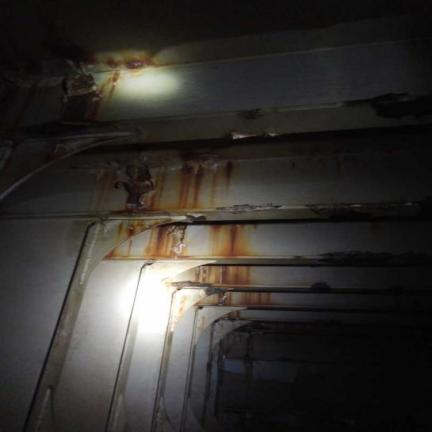besi_tidak_karat: (94, 40, 431, 121), (0, 221, 86, 431), (108, 261, 207, 431), (48, 261, 141, 431), (157, 304, 240, 431)
karat: (142, 133, 431, 215), (105, 223, 431, 266), (173, 264, 431, 293), (195, 289, 431, 319), (78, 218, 174, 278), (307, 199, 431, 220), (35, 168, 90, 209), (170, 281, 320, 295), (115, 159, 154, 210), (89, 162, 127, 212), (216, 204, 281, 213), (190, 284, 232, 296), (331, 287, 386, 292), (175, 284, 190, 287)
